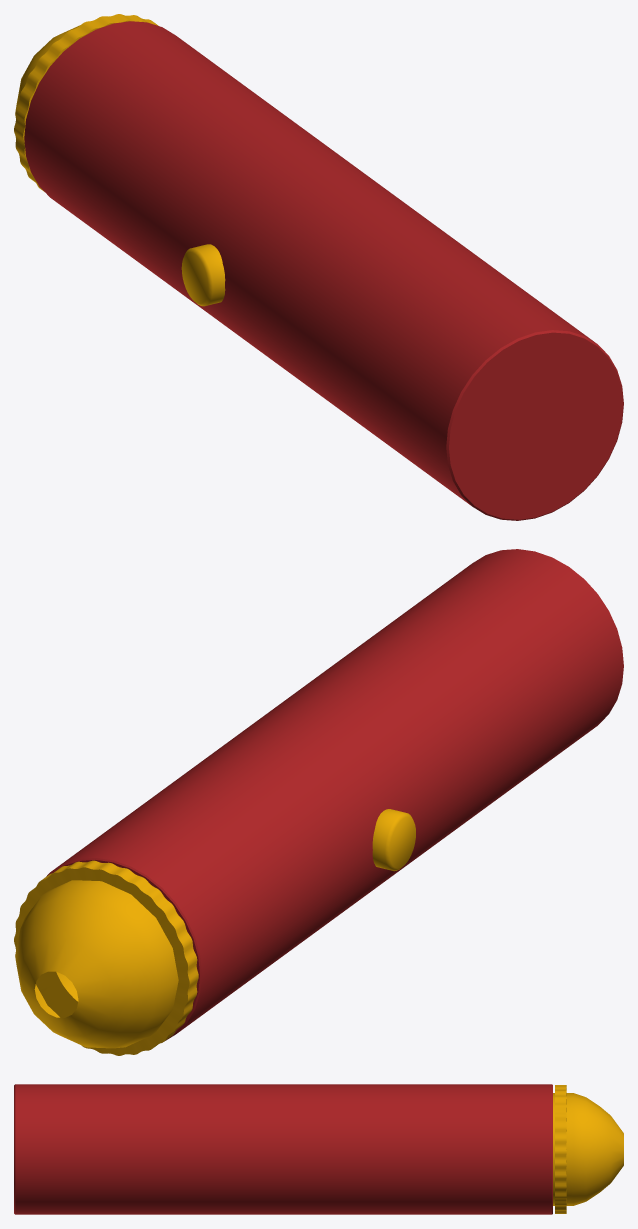
File: laser.glb
3 renders of one model, top to bottom at view 1: azimuth 30°, elevation 25°; view 2: azimuth 150°, elevation 25°; view 3: azimuth 270°, elevation 25°, orthographic. The views are drawn at different scales.
Parts seen in each view (by area): view 1: Cylinder, Cylinder.002, Cylinder.001; view 2: Cylinder, Sphere, Cylinder.002, Cylinder.001; view 3: Cylinder, Sphere, Cylinder.002.
Part boxes in pixels (left/top/right/bottom): Cylinder: left=24, top=21, right=623, bottom=520; Cylinder.002: left=14, top=14, right=158, bottom=191; Cylinder.001: left=181, top=244, right=225, bottom=306; Cylinder: left=46, top=549, right=623, bottom=1041; Sphere: left=15, top=880, right=178, bottom=1048; Cylinder.002: left=14, top=860, right=198, bottom=1055; Cylinder.001: left=372, top=809, right=415, bottom=871; Cylinder: left=14, top=1084, right=552, bottom=1214; Sphere: left=553, top=1093, right=623, bottom=1205; Cylinder.002: left=555, top=1085, right=566, bottom=1213.
Bounding box in the file's own units: 0.0983 × 0.0906 × 0.4231.
